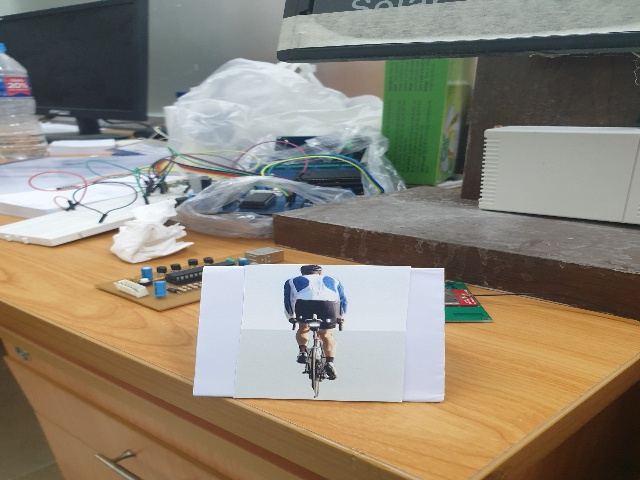Cyclist: (276, 265, 350, 397)
